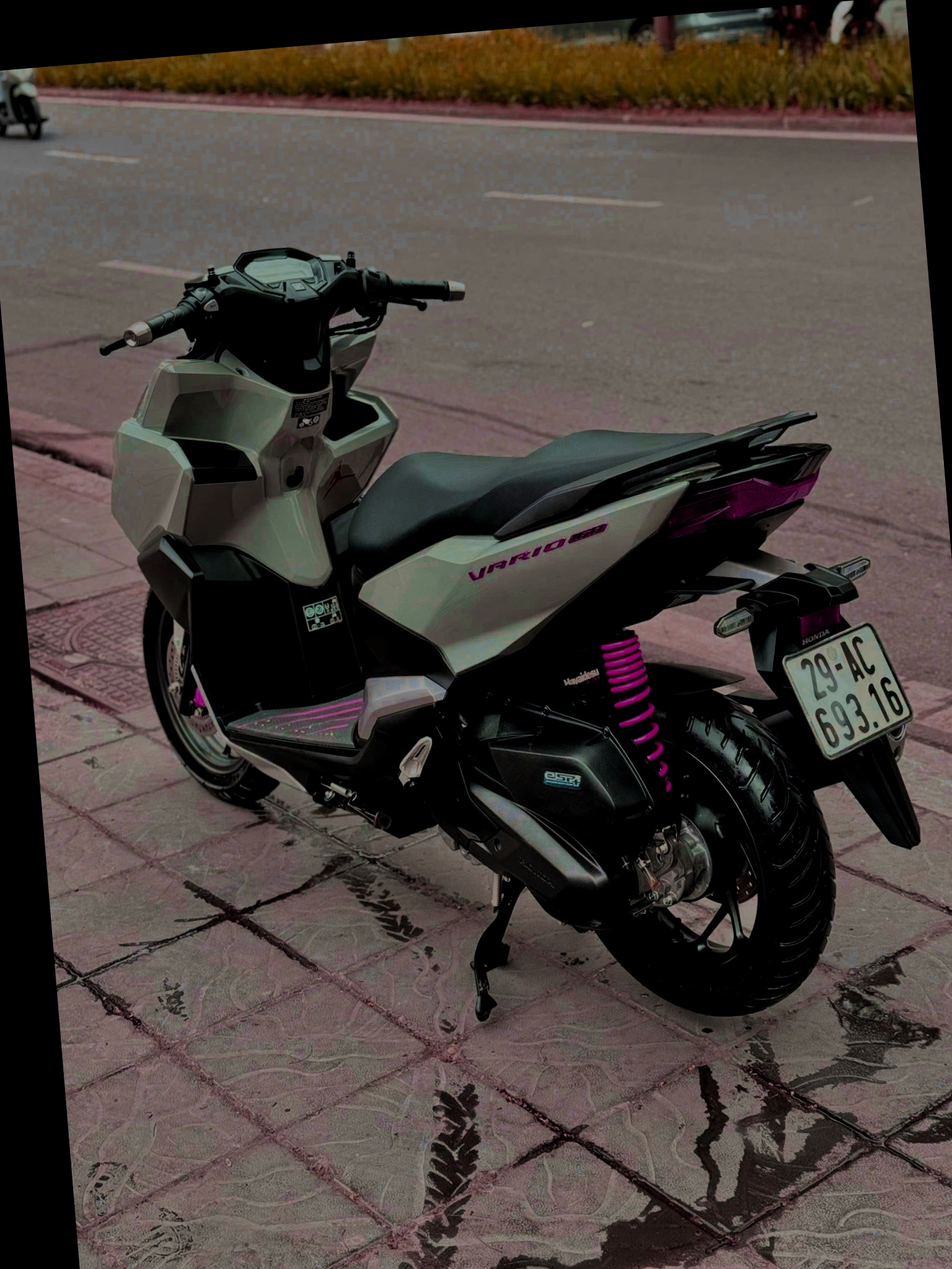Bien-so: (773, 617, 908, 755)
